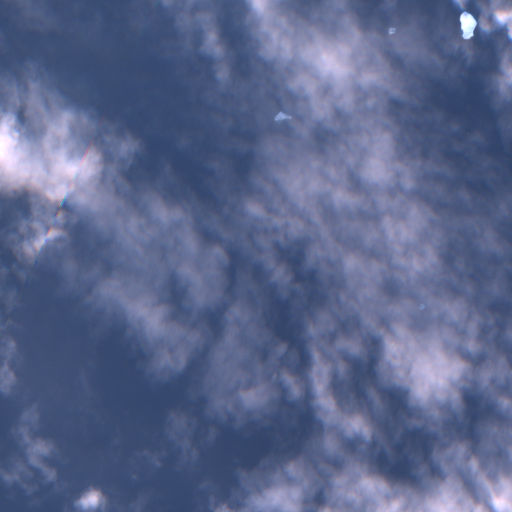Iceberg: (460, 11, 476, 39), (275, 111, 292, 124), (389, 28, 395, 34), (419, 304, 424, 308)
